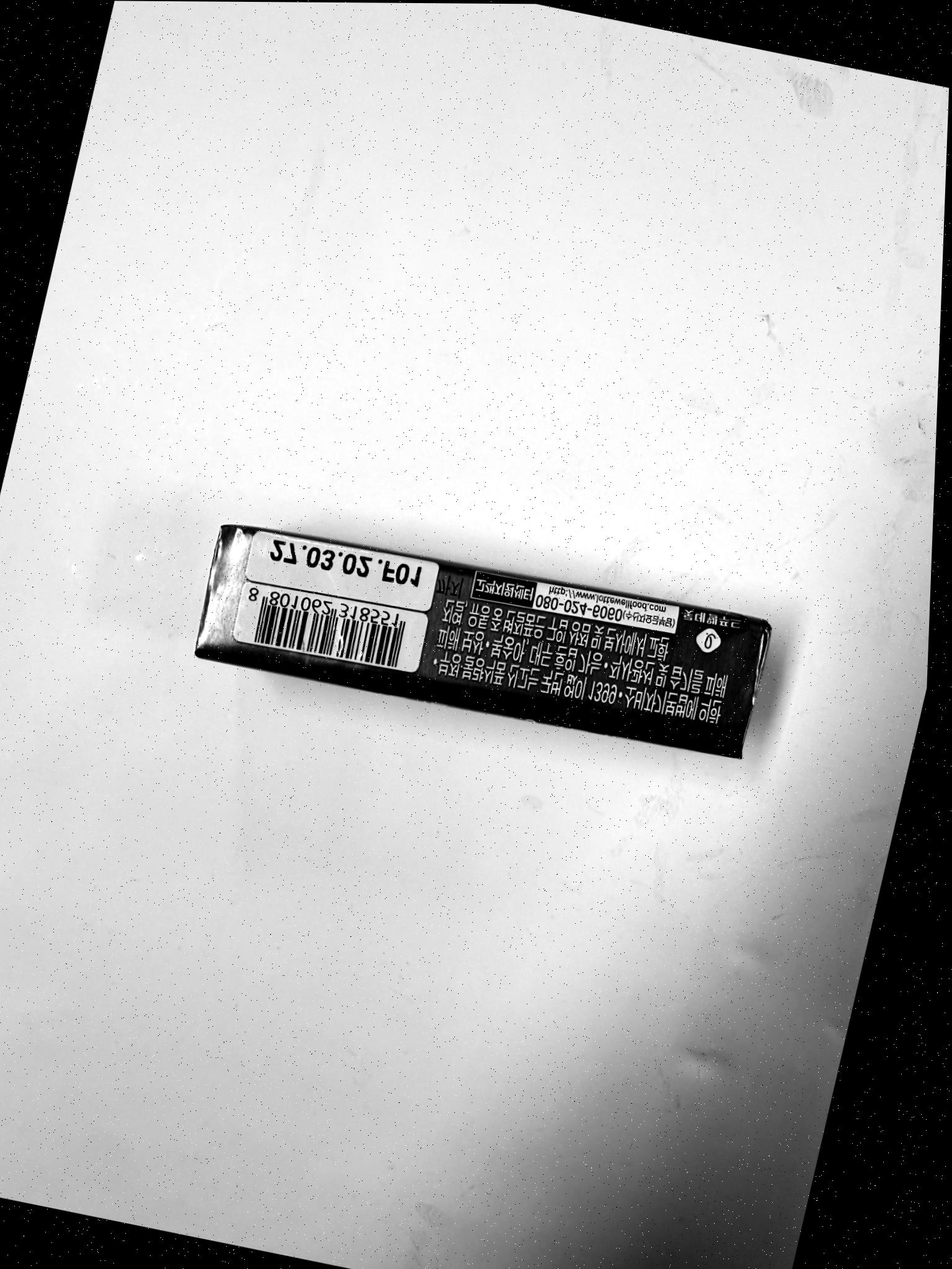gum_green: (196, 525, 771, 757)
